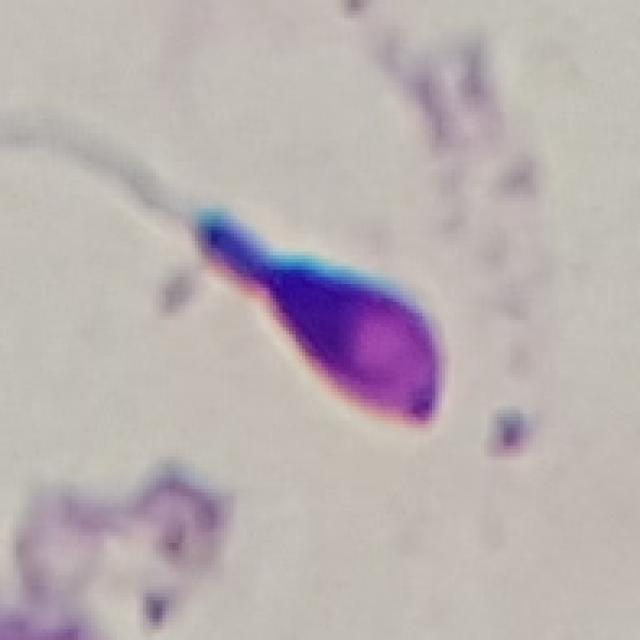abnormal sperm: (12, 171, 464, 452)
